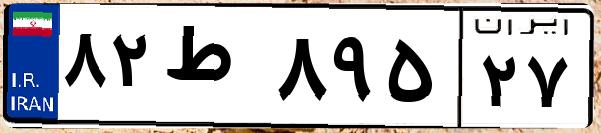2: (475, 38, 525, 113), (110, 28, 158, 98)
5: (385, 28, 445, 110)
7: (525, 38, 570, 115)
8: (270, 28, 330, 110), (57, 26, 110, 100)
9: (330, 28, 385, 110)
ط: (158, 20, 270, 120)
